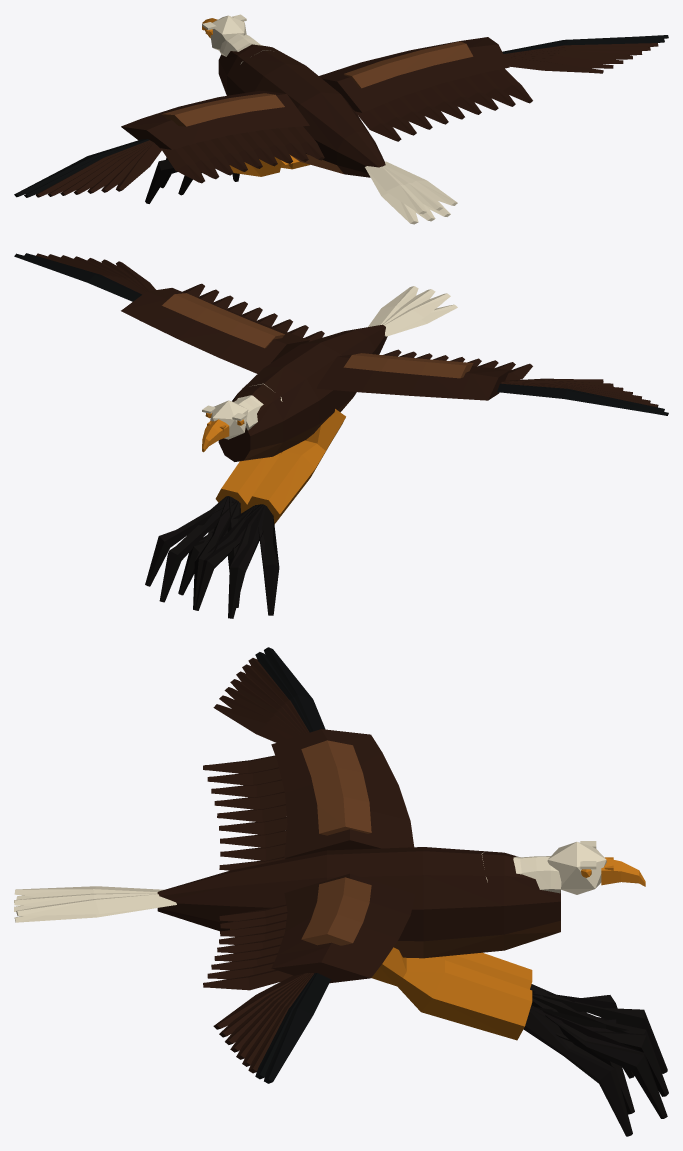
The model's file is ANIMAL_04_Eagle.obj.
The picture shows the model from 3 angles, top to bottom: view 1: azimuth 30°, elevation 25°; view 2: azimuth 150°, elevation 25°; view 3: azimuth 270°, elevation 25°; orthographic projection. The views are drawn at different scales.
Parts seen in each view (by area): view 1: ANIMAL_04_Eagle_Body, ANIMAL_04_Eagle_Wing_L_Secondaries, ANIMAL_04_Eagle_Wing_R_Secondaries, ANIMAL_04_Eagle_Wing_L_Arm, ANIMAL_04_Eagle_Wing_R_Arm, ANIMAL_04_Eagle_Wing_L_Primaries, ANIMAL_04_Eagle_Wing_R_Primaries, ANIMAL_04_Eagle_Tail, ANIMAL_04_Eagle_Wing_L_Coverts, ANIMAL_04_Eagle_Wing_R_Coverts, ANIMAL_04_Eagle_Wing_R_Tips, ANIMAL_04_Eagle_Wing_L_Tips (+4 smaller); view 2: ANIMAL_04_Eagle_Body, ANIMAL_04_Eagle_Talons_R, ANIMAL_04_Eagle_Wing_L_Arm, ANIMAL_04_Eagle_Wing_R_Arm, ANIMAL_04_Eagle_Talons_L, ANIMAL_04_Eagle_Leg_R, ANIMAL_04_Eagle_Wing_L_Coverts, ANIMAL_04_Eagle_Tail, ANIMAL_04_Eagle_Wing_R_Coverts, ANIMAL_04_Eagle_Wing_R_Tips, ANIMAL_04_Eagle_Leg_L, ANIMAL_04_Eagle_Wing_L_Primaries (+6 smaller); view 3: ANIMAL_04_Eagle_Body, ANIMAL_04_Eagle_Wing_R_Arm, ANIMAL_04_Eagle_Wing_L_Arm, ANIMAL_04_Eagle_Leg_L, ANIMAL_04_Eagle_Talons_L, ANIMAL_04_Eagle_Wing_R_Secondaries, ANIMAL_04_Eagle_Wing_L_Secondaries, ANIMAL_04_Eagle_Wing_R_Coverts, ANIMAL_04_Eagle_Tail, ANIMAL_04_Eagle_Wing_R_Primaries, ANIMAL_04_Eagle_Wing_L_Primaries, ANIMAL_04_Eagle_Talons_R (+7 smaller).
Boxes of the visible parts, <box> form: ANIMAL_04_Eagle_Body: <box>218,44,385,177</box>; ANIMAL_04_Eagle_Wing_L_Secondaries: <box>353,68,532,141</box>; ANIMAL_04_Eagle_Wing_R_Secondaries: <box>162,126,324,183</box>; ANIMAL_04_Eagle_Wing_L_Arm: <box>319,37,509,112</box>; ANIMAL_04_Eagle_Wing_R_Arm: <box>121,90,309,149</box>; ANIMAL_04_Eagle_Wing_L_Primaries: <box>503,43,658,73</box>; ANIMAL_04_Eagle_Wing_R_Primaries: <box>36,140,162,197</box>; ANIMAL_04_Eagle_Tail: <box>365,161,457,224</box>; ANIMAL_04_Eagle_Wing_L_Coverts: <box>344,41,473,88</box>; ANIMAL_04_Eagle_Wing_R_Coverts: <box>162,93,284,126</box>; ANIMAL_04_Eagle_Wing_R_Tips: <box>14,139,149,197</box>; ANIMAL_04_Eagle_Wing_L_Tips: <box>502,35,668,53</box>; ANIMAL_04_Eagle_Body: <box>218,324,387,461</box>; ANIMAL_04_Eagle_Talons_R: <box>178,504,279,618</box>; ANIMAL_04_Eagle_Wing_L_Arm: <box>121,288,309,373</box>; ANIMAL_04_Eagle_Wing_R_Arm: <box>316,353,509,400</box>; ANIMAL_04_Eagle_Talons_L: <box>145,496,241,609</box>; ANIMAL_04_Eagle_Leg_R: <box>246,409,345,524</box>; ANIMAL_04_Eagle_Wing_L_Coverts: <box>162,293,284,348</box>; ANIMAL_04_Eagle_Tail: <box>368,286,457,336</box>; ANIMAL_04_Eagle_Wing_R_Coverts: <box>343,353,473,378</box>; ANIMAL_04_Eagle_Wing_R_Tips: <box>497,383,668,415</box>; ANIMAL_04_Eagle_Leg_L: <box>215,452,281,513</box>; ANIMAL_04_Eagle_Wing_L_Primaries: <box>36,253,155,294</box>; ANIMAL_04_Eagle_Body: <box>157,847,560,958</box>; ANIMAL_04_Eagle_Wing_R_Arm: <box>271,729,414,858</box>; ANIMAL_04_Eagle_Wing_L_Arm: <box>271,873,415,983</box>; ANIMAL_04_Eagle_Leg_L: <box>371,947,532,1040</box>; ANIMAL_04_Eagle_Talons_L: <box>523,1005,668,1136</box>; ANIMAL_04_Eagle_Wing_R_Secondaries: <box>203,755,287,870</box>; ANIMAL_04_Eagle_Wing_L_Secondaries: <box>203,904,292,990</box>; ANIMAL_04_Eagle_Wing_R_Coverts: <box>301,740,371,835</box>; ANIMAL_04_Eagle_Tail: <box>14,886,176,922</box>; ANIMAL_04_Eagle_Wing_R_Primaries: <box>213,658,309,742</box>; ANIMAL_04_Eagle_Wing_L_Primaries: <box>213,973,314,1073</box>; ANIMAL_04_Eagle_Talons_R: <box>530,984,668,1114</box>.
Size of the model in its own units: 2.18 by 0.6086 by 1.4.
